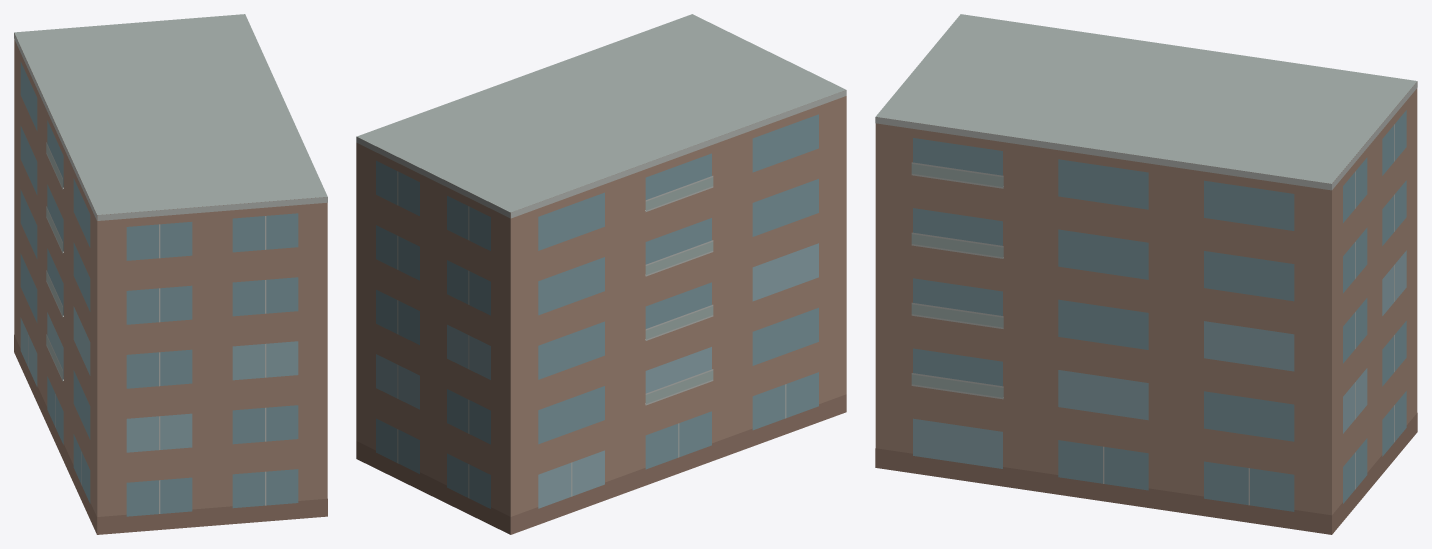
Rendered from survey-upis-32706158.glb.
3 views of the same model, side by side, from view 1: azimuth 30°, elevation 25°; view 2: azimuth 150°, elevation 25°; view 3: azimuth 270°, elevation 25° (orthographic). The views are drawn at different scales.
Visible parts, largest first — view 1: survey-upis-32706158.tmp; view 2: survey-upis-32706158.tmp; view 3: survey-upis-32706158.tmp.
Boxes of the visible parts, x1,y1,x2,y2 form: survey-upis-32706158.tmp: [14, 14, 327, 534]; survey-upis-32706158.tmp: [356, 14, 846, 534]; survey-upis-32706158.tmp: [875, 14, 1417, 534].
Bounding box in the file's own units: 13.61 × 13.1 × 18.34.
